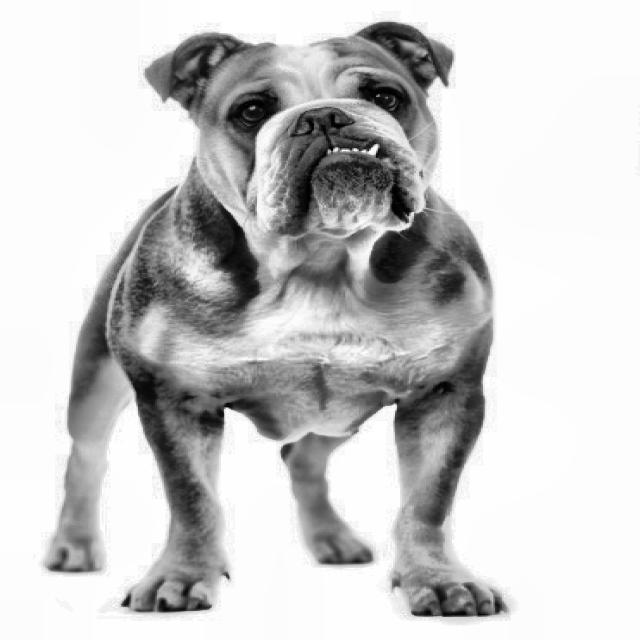bulldog: (134, 7, 478, 272)
